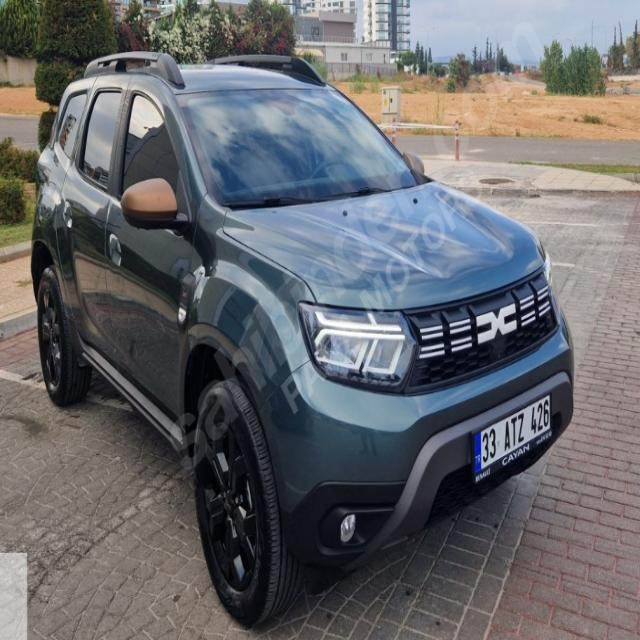dacia: (472, 304, 521, 346)
